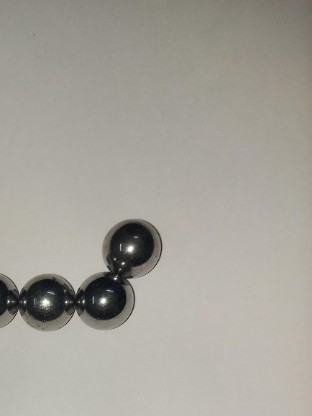ironball: (101, 214, 174, 278), (78, 271, 146, 334), (18, 269, 75, 341), (0, 265, 20, 333)
